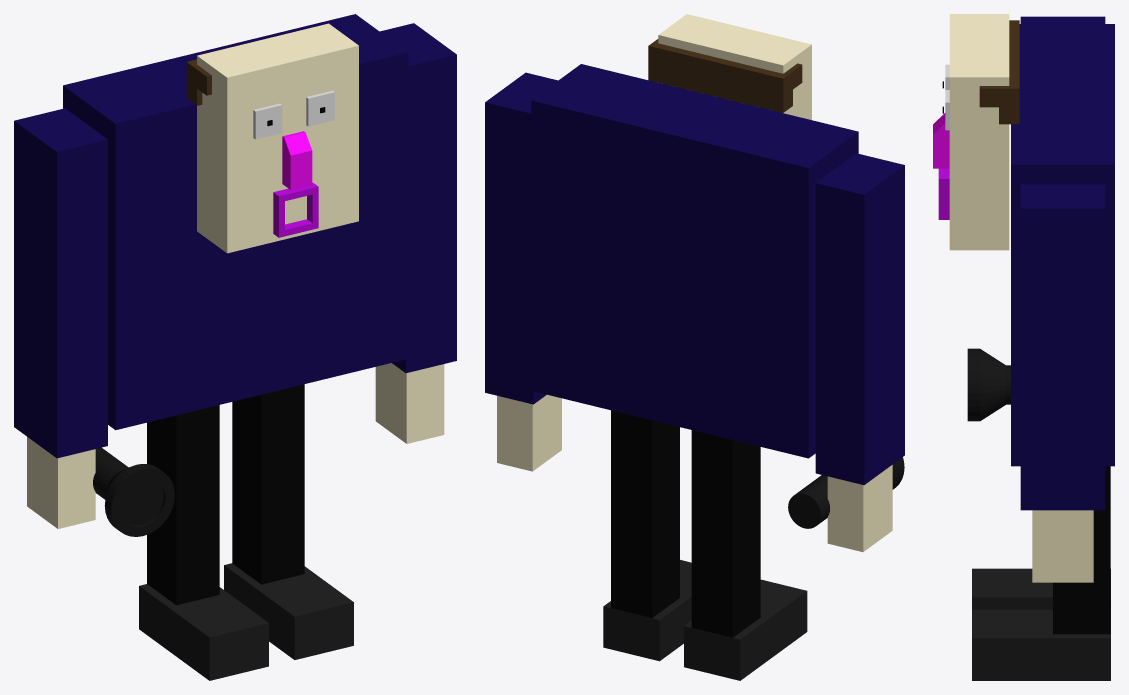
The model's file is Old man.fbx.
3 views of the same model, side by side, from view 1: azimuth 30°, elevation 25°; view 2: azimuth 150°, elevation 25°; view 3: azimuth 270°, elevation 25° (orthographic). The views are drawn at different scales.
Visible parts, largest first — view 1: Torso, Cube.011, Head, Left arm, left leg, Cube.013, Cube.014, left foot, Cylinder, Right hand, left hand, Eyes (+3 smaller); view 2: Torso, Cube.011, Left arm, Cube.013, left leg, Cube.014, Hair, Head, Right hand, left hand, left foot, Cylinder; view 3: Left arm, Torso, Head, left foot, left leg, left hand, Cube.014, Cylinder, Hair, Nose, Cube.011, Mouth (+1 smaller).
Part boxes in pixels (<box>): Torso: <box>63,14,408,430</box>; Cube.011: <box>14,108,107,458</box>; Head: <box>197,23,358,253</box>; Left arm: <box>380,23,456,373</box>; left leg: <box>232,384,304,584</box>; Cube.013: <box>147,405,219,605</box>; Cube.014: <box>139,584,268,680</box>; left foot: <box>224,563,353,659</box>; Cylinder: <box>93,447,174,536</box>; Right hand: <box>27,437,95,528</box>; left hand: <box>375,363,444,443</box>; Eyes: <box>253,90,334,139</box>; Torso: <box>531,64,858,458</box>; Cube.011: <box>815,153,904,484</box>; Left arm: <box>485,72,557,404</box>; Cube.013: <box>691,430,760,637</box>; left leg: <box>611,410,679,617</box>; Cube.014: <box>684,579,807,680</box>; Hair: <box>648,39,802,112</box>; Head: <box>658,14,811,119</box>; Right hand: <box>827,465,892,551</box>; left hand: <box>497,394,561,471</box>; left foot: <box>603,560,691,661</box>; Cylinder: <box>788,457,904,528</box>; Left arm: <box>1020,184,1105,510</box>; Torso: <box>1011,24,1114,466</box>; Head: <box>949,14,1009,250</box>; left foot: <box>972,609,1110,680</box>; left leg: <box>1053,466,1110,634</box>; left hand: <box>1032,510,1093,582</box>; Cube.014: <box>972,568,1110,609</box>; Cylinder: <box>967,348,1010,421</box>; Hair: <box>979,20,1019,124</box>; Nose: <box>933,113,949,168</box>; Cube.011: <box>1020,16,1105,23</box>; Mouth: <box>938,168,949,219</box>.
Size of the model in its own units: 273 by 398 by 109.
